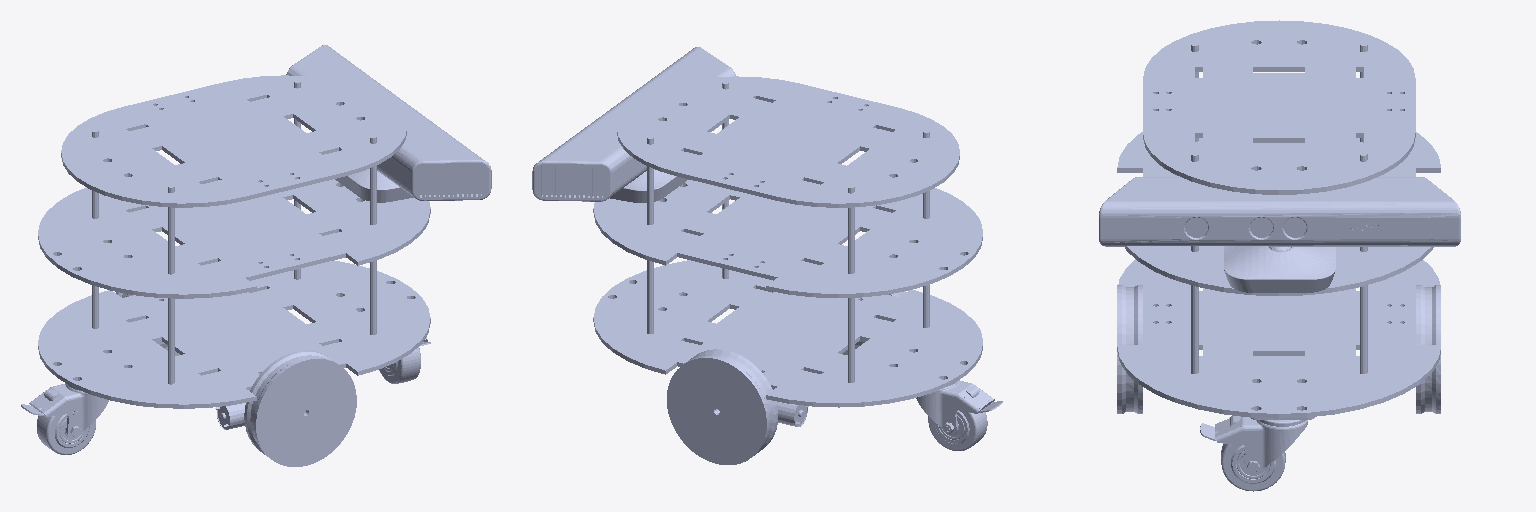
URDF robot description (robot assembly):
<?xml version="1.0" encoding="utf-8"?>
<!-- This URDF was automatically created by SolidWorks to URDF Exporter! Originally created by [author] ([email redacted]) 
     Commit Version: 1.6.0-4-g7f85cfe  Build Version: 1.6.7995.38578
     For more information, please see http://wiki.ros.org/sw_urdf_exporter -->
<robot
  name="robot assembly">
  <link
    name="base_link">
    <inertial>
      <origin
        xyz="0.17268 0.29053 0.25098"
        rpy="0 0 0" />
      <mass
        value="1.9959" />
      <inertia
        ixx="0.0060989"
        ixy="-2.9127E-06"
        ixz="9.3677E-07"
        iyy="0.012201"
        iyz="2.7055E-06"
        izz="0.0067982" />
    </inertial>
    <visual>
      <origin
        xyz="0 0 0"
        rpy="0 0 0" />
      <geometry>
        <mesh
          filename="package://robot assembly/meshes/base_link.STL" />
      </geometry>
      <material
        name="">
        <color
          rgba="0.79216 0.81961 0.93333 1" />
      </material>
    </visual>
    <collision>
      <origin
        xyz="0 0 0"
        rpy="0 0 0" />
      <geometry>
        <mesh
          filename="package://robot assembly/meshes/base_link.STL" />
      </geometry>
    </collision>
  </link>
</robot>

--- Render facts (derived) ---
Views: 3 orthographic renders of the robot side by side, from view 1: azimuth 30°, elevation 25°; view 2: azimuth 150°, elevation 25°; view 3: azimuth 270°, elevation 25°.
Robot: robot assembly — 1 links, 0 joints (none); root link base_link; default pose: every joint at zero.
Visible links, largest first — view 1: base_link; view 2: base_link; view 3: base_link.
Link boxes in pixels (<box>): base_link: <box>21,45,491,466</box>; base_link: <box>532,47,1002,464</box>; base_link: <box>1099,20,1460,491</box>.
Bounding box of the posed robot: 0.3909 × 0.2794 × 0.2632 m (x, y, z).
1 mesh visuals loaded from 1 distinct referenced files (1 binary STL).